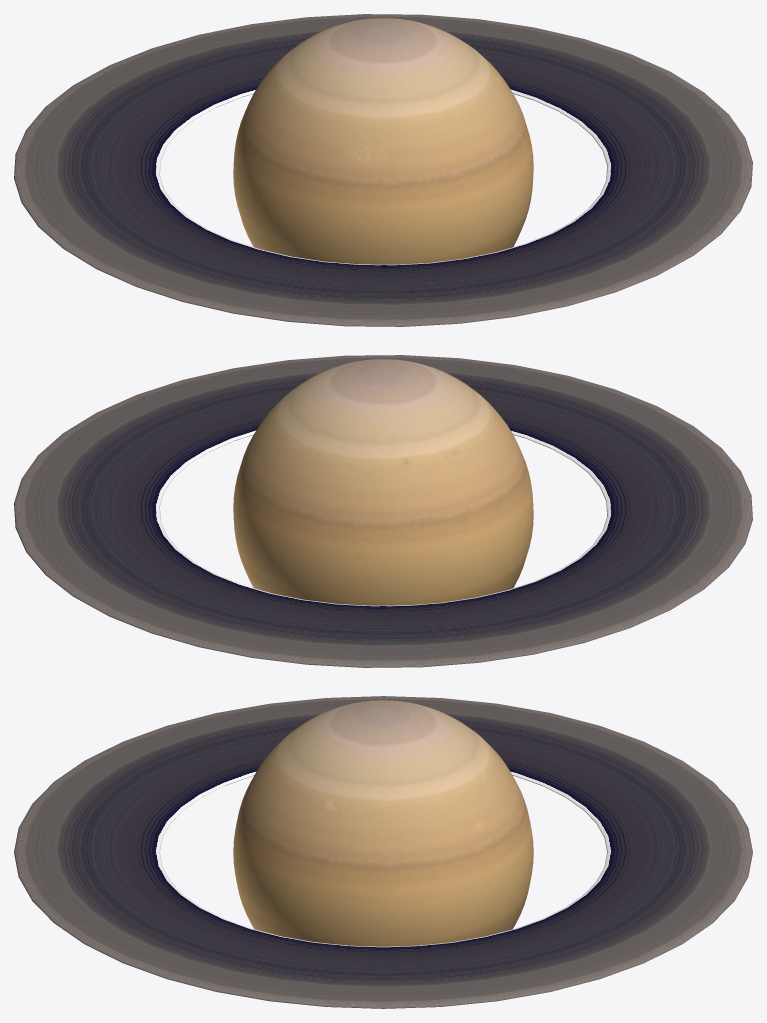
The model's file is Saturn.fbx.
The picture shows the model from 3 angles, top to bottom: view 1: azimuth 30°, elevation 25°; view 2: azimuth 150°, elevation 25°; view 3: azimuth 270°, elevation 25°; orthographic projection.
Parts seen in each view (by area): view 1: polyToSubd6; view 2: polyToSubd6; view 3: polyToSubd6.
Boxes of the visible parts, x1=… form: polyToSubd6: x1=14, y1=14, x2=752, y2=326; polyToSubd6: x1=14, y1=355, x2=752, y2=667; polyToSubd6: x1=14, y1=696, x2=752, y2=1008.
Bounding box in the file's own units: 1705 × 706 × 1705.
Materials: 2 (2 with a texture image).
